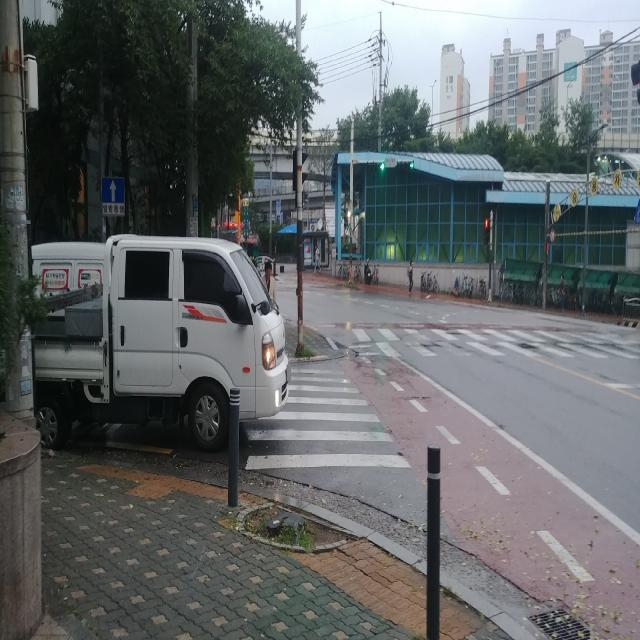횡단보도: (244, 366, 412, 471), (345, 315, 640, 364)
